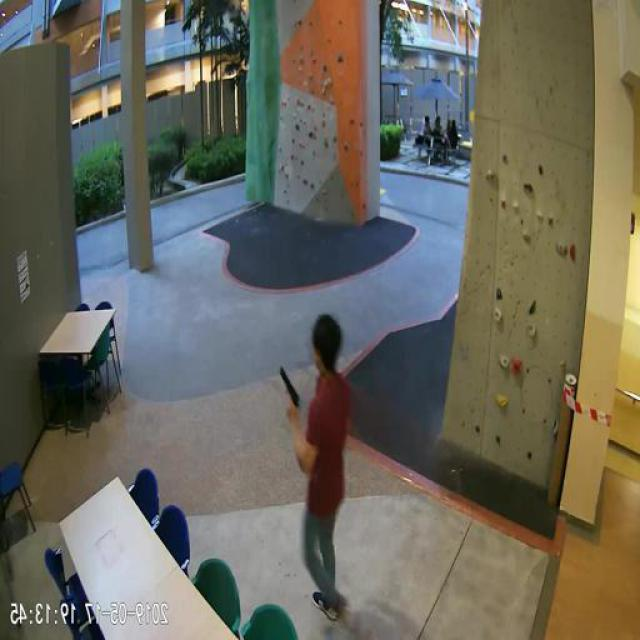Gun: (281, 366, 300, 410)
